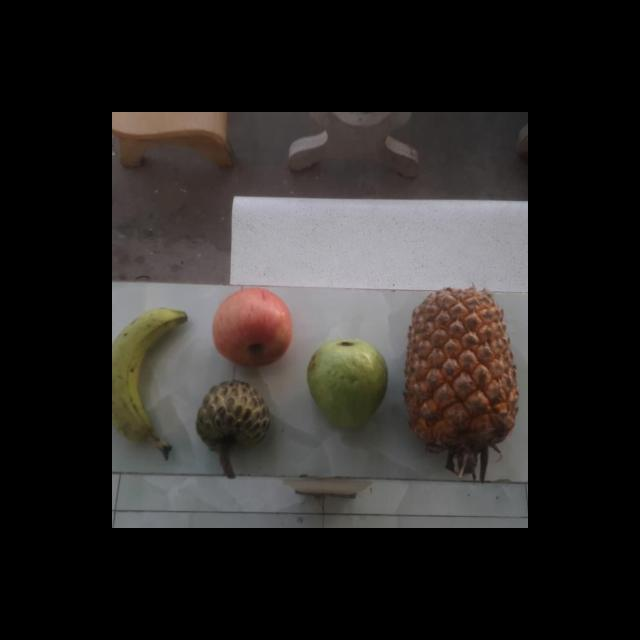Sakya fruit: (194, 381, 274, 458)
apple: (210, 288, 296, 370)
banana: (112, 307, 194, 455)
guava: (308, 337, 392, 429)
pineapple: (405, 290, 520, 459)
